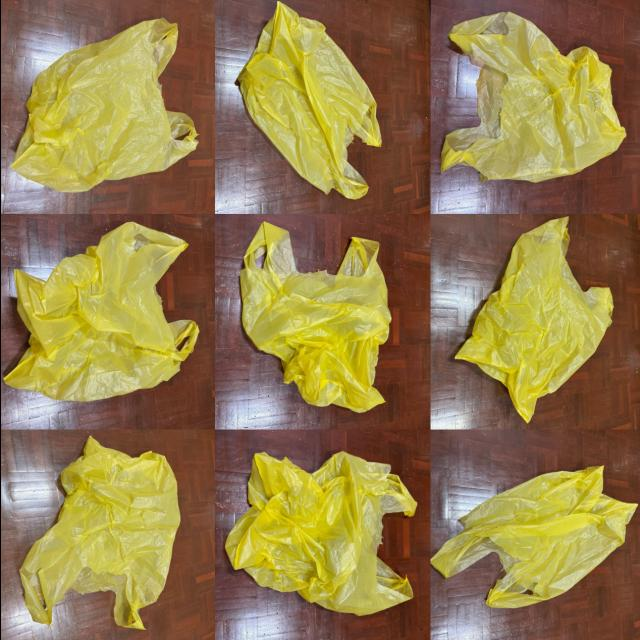plastik: (4, 222, 198, 401), (10, 19, 197, 192), (455, 217, 612, 422), (440, 12, 625, 183), (225, 452, 415, 615), (19, 438, 179, 629), (430, 466, 636, 608), (240, 222, 390, 413), (237, 2, 380, 199)
